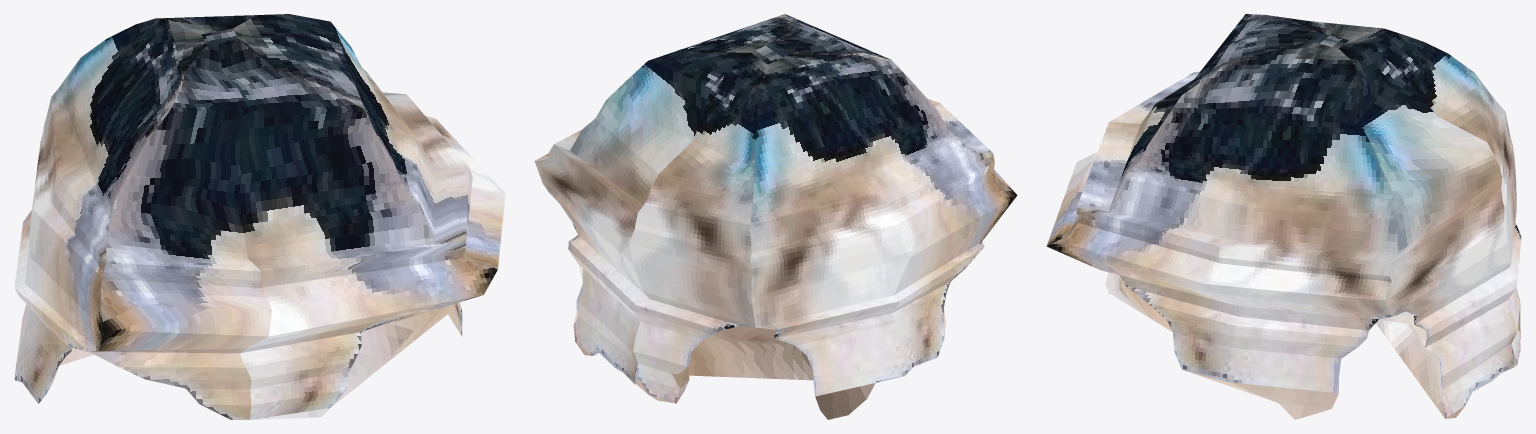
3 views of the same model, side by side, from view 1: azimuth 30°, elevation 25°; view 2: azimuth 150°, elevation 25°; view 3: azimuth 270°, elevation 25° (orthographic). The views are drawn at different scales.
Visible parts, largest first — view 1: SPLICE_1; view 2: SPLICE_1; view 3: SPLICE_1.
Boxes of the visible parts, box(x1,y1,x2,y2) form: SPLICE_1: box(14, 14, 505, 419); SPLICE_1: box(534, 14, 1017, 419); SPLICE_1: box(1046, 14, 1521, 419).
Size of the model in its own units: 1.63 by 1.22 by 1.64.
1 material, 1 textured.
